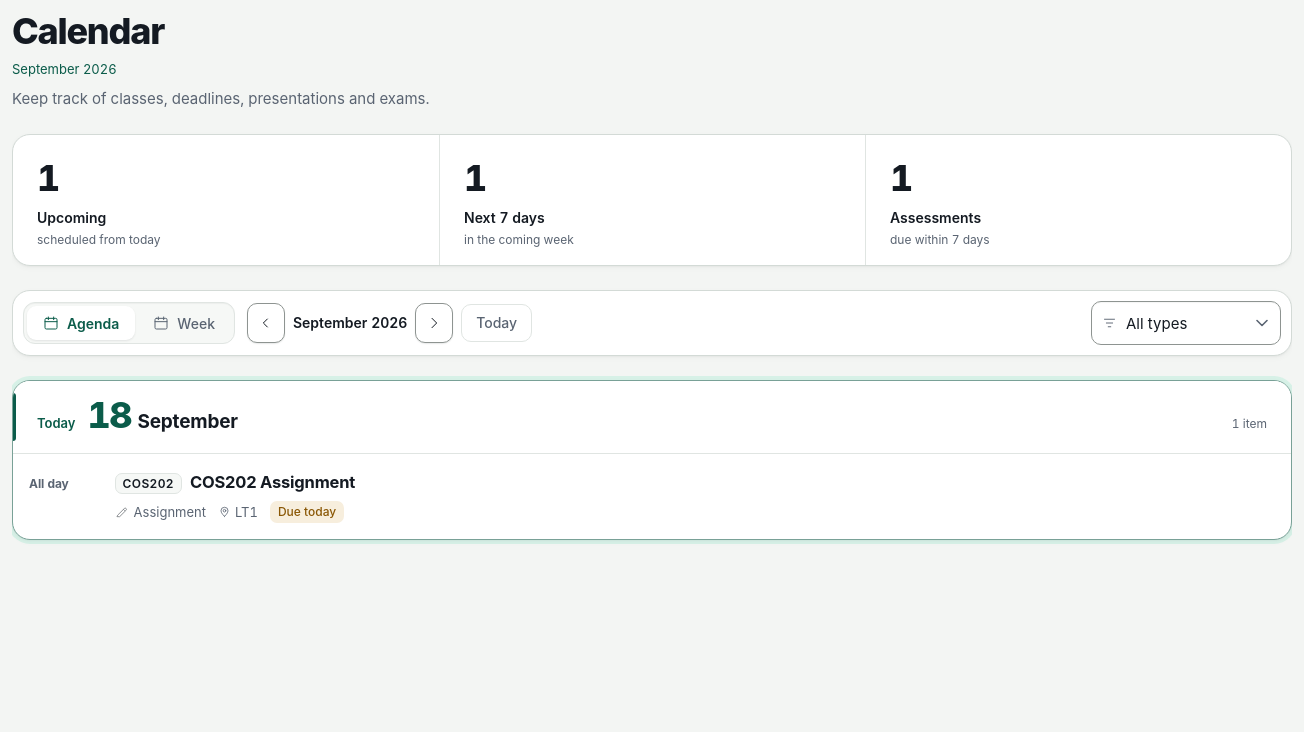
Calendar › opens an event as a linkable route rather than an in-page panel
The image size is (1304, 732).
// Agenda opens first and runs forward from today.
What coordinates should you click on to do the following:
click the button "All day COS202 COS202 Assignment Assignment LT1 Due today"
I would click on:
 (49, 483)
Its box is [13,454,1291,539].
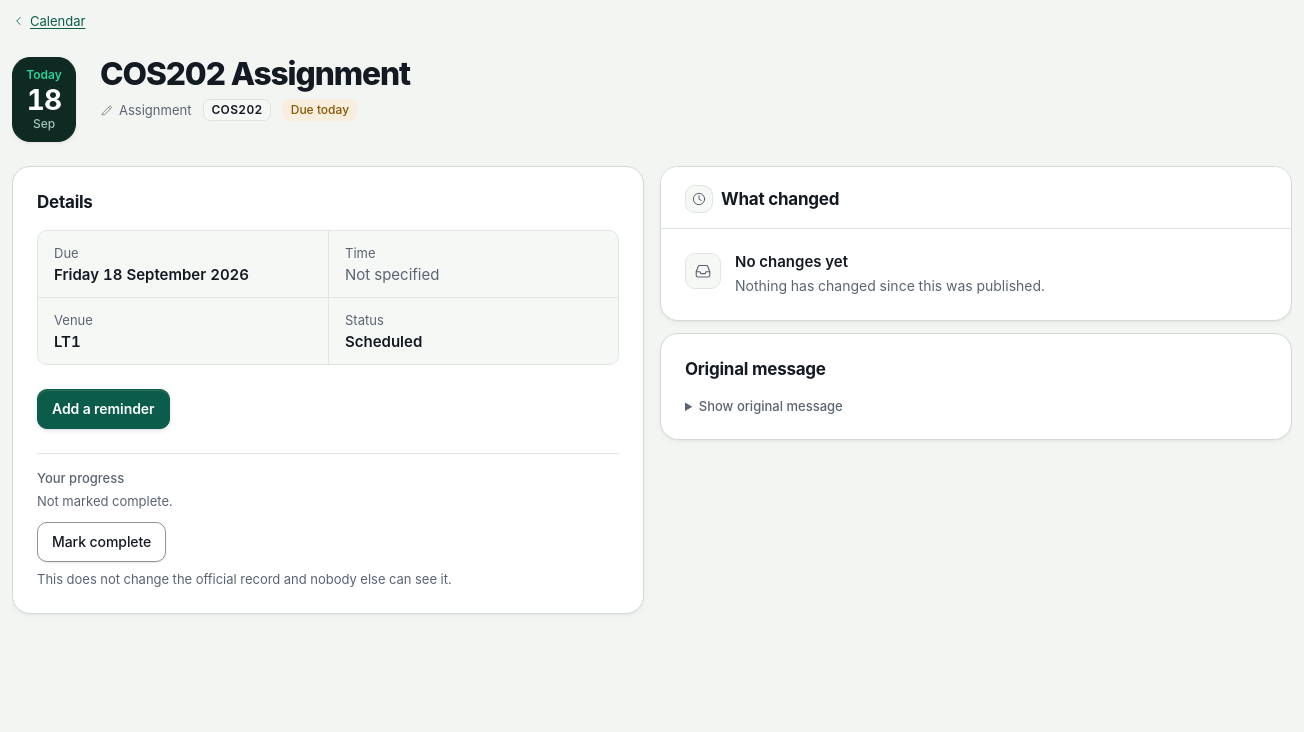
Expected: the text "LT1" is shown, [54,332,81,351]
Expected: the heading "COS202 Assignment" is shown, [100,57,410,92]
